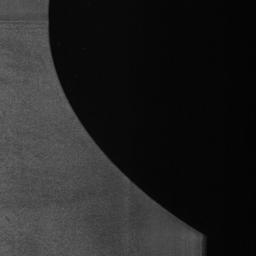Crescent gap: (49, 0, 203, 235)
